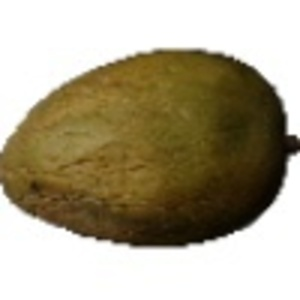mamão: (3, 37, 291, 254)
